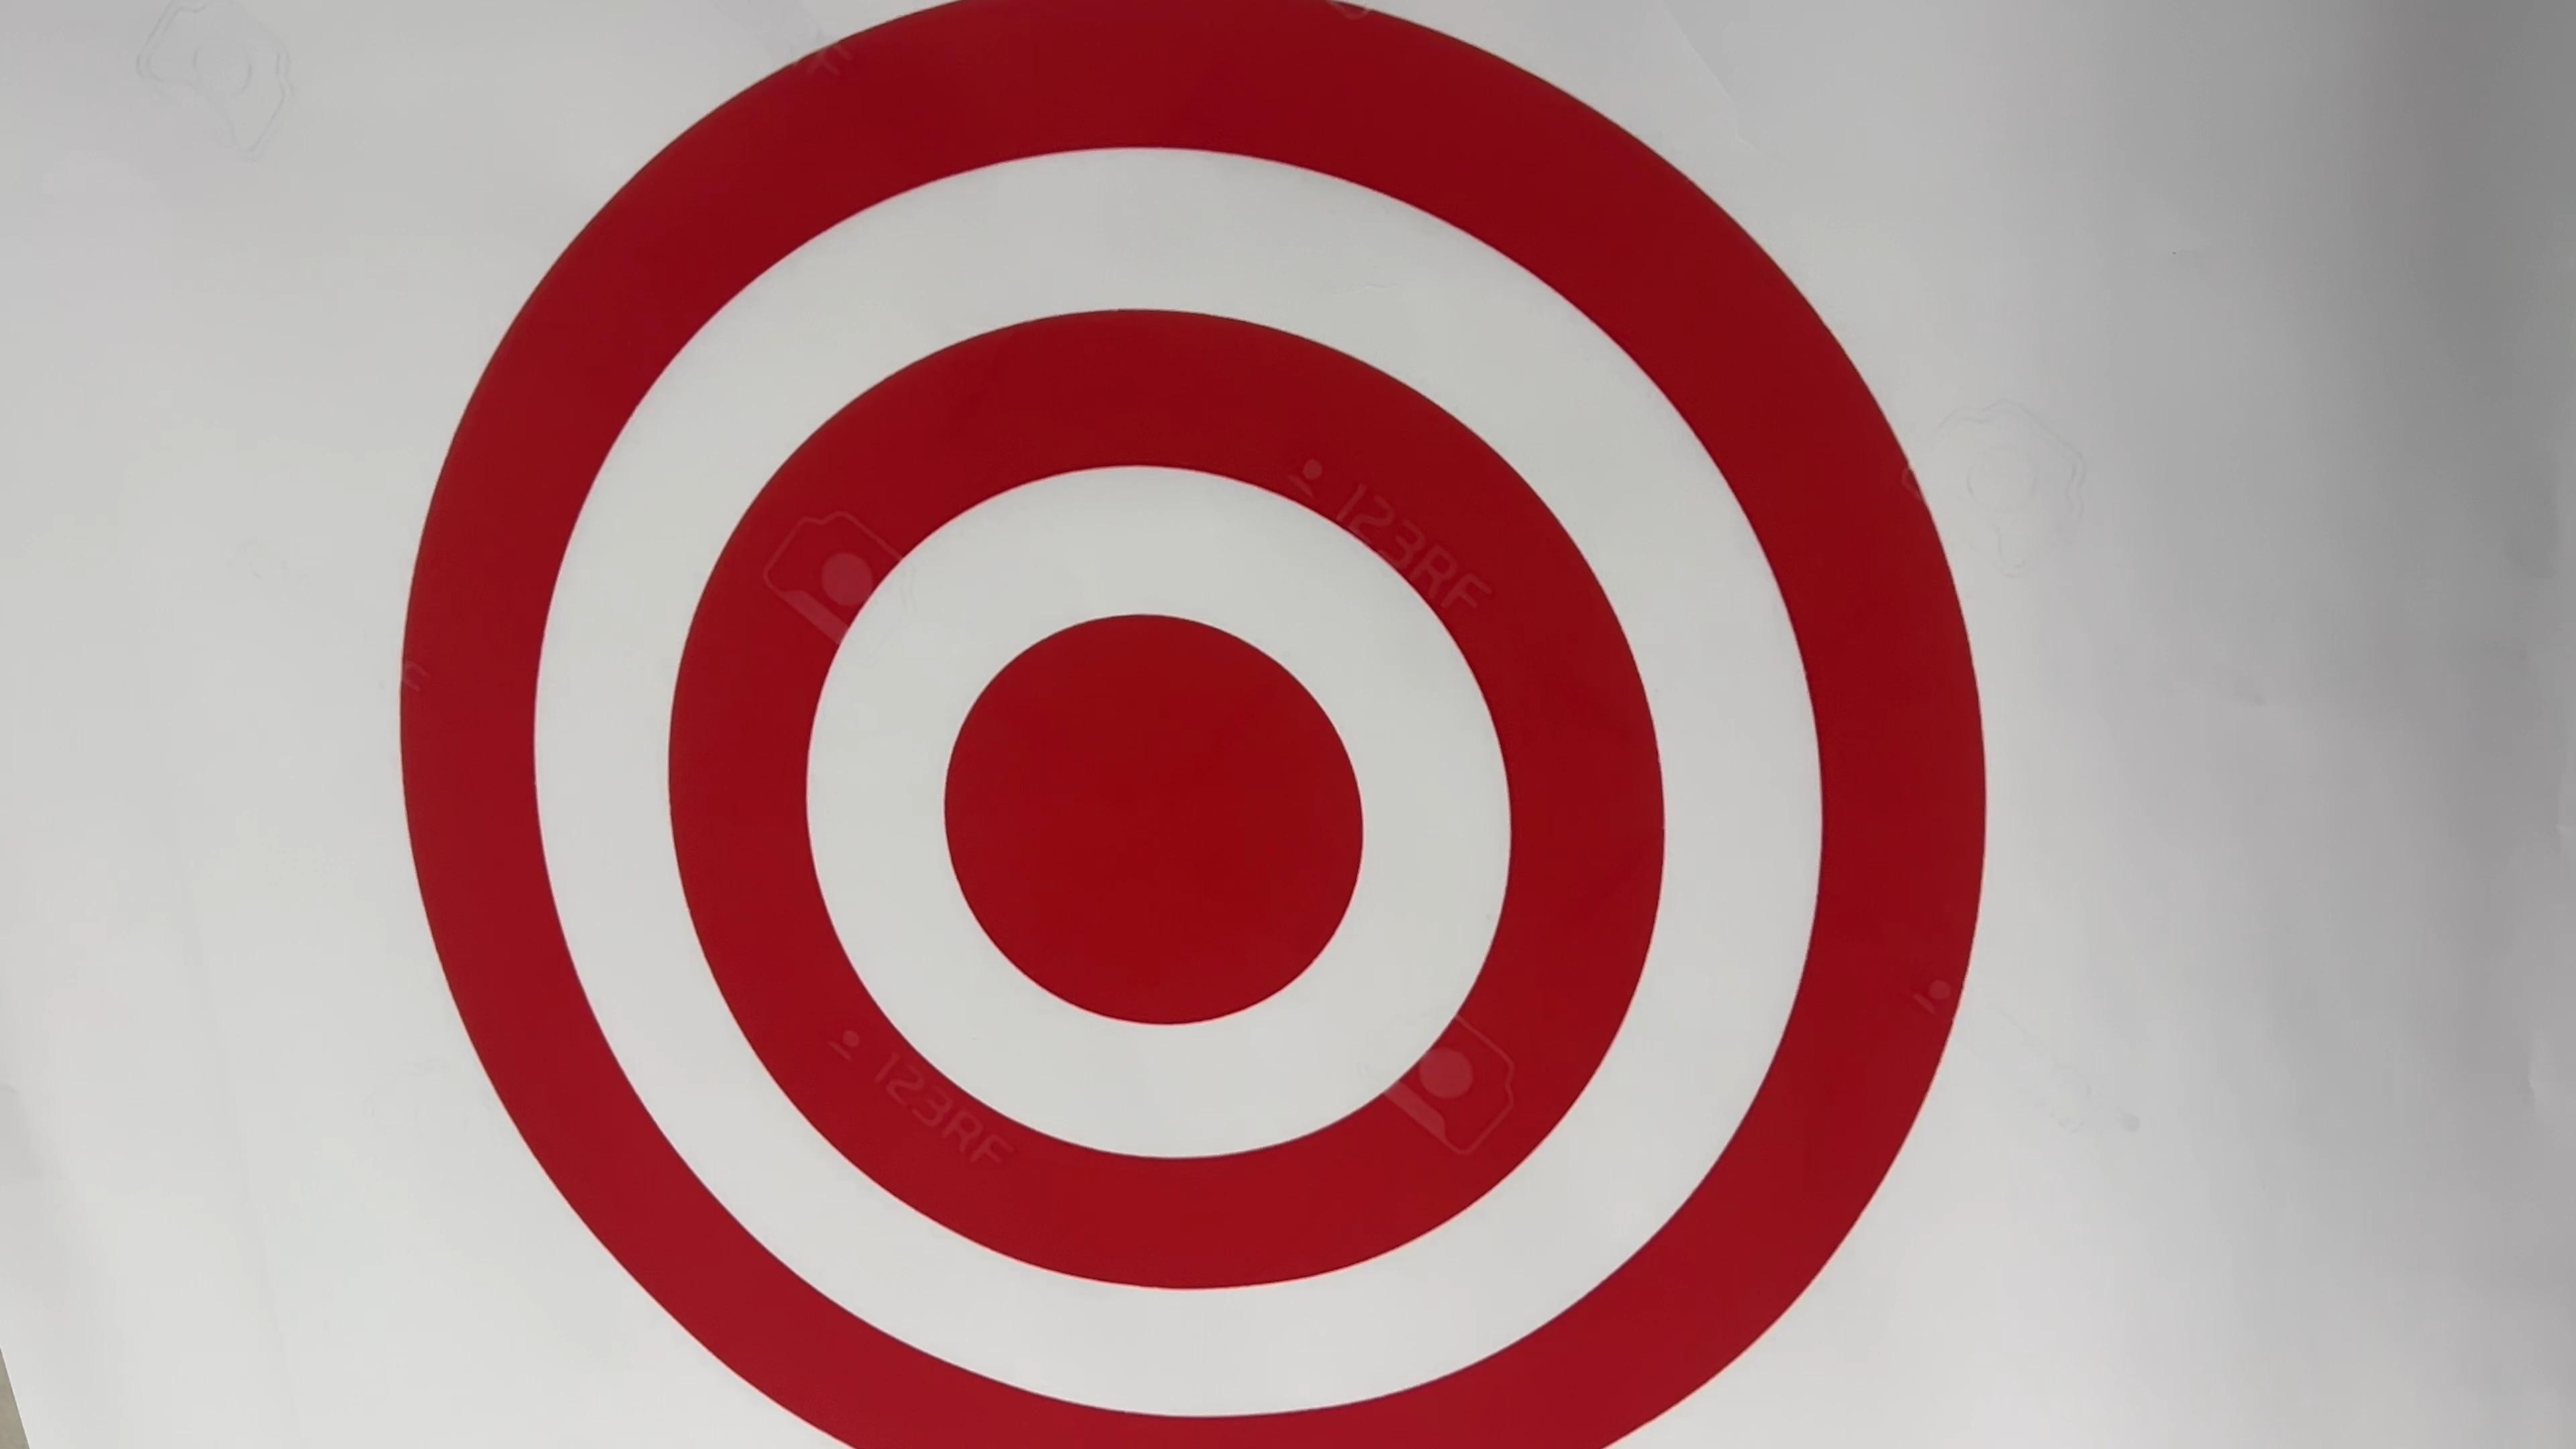target_red: (384, 5, 2003, 1449)
